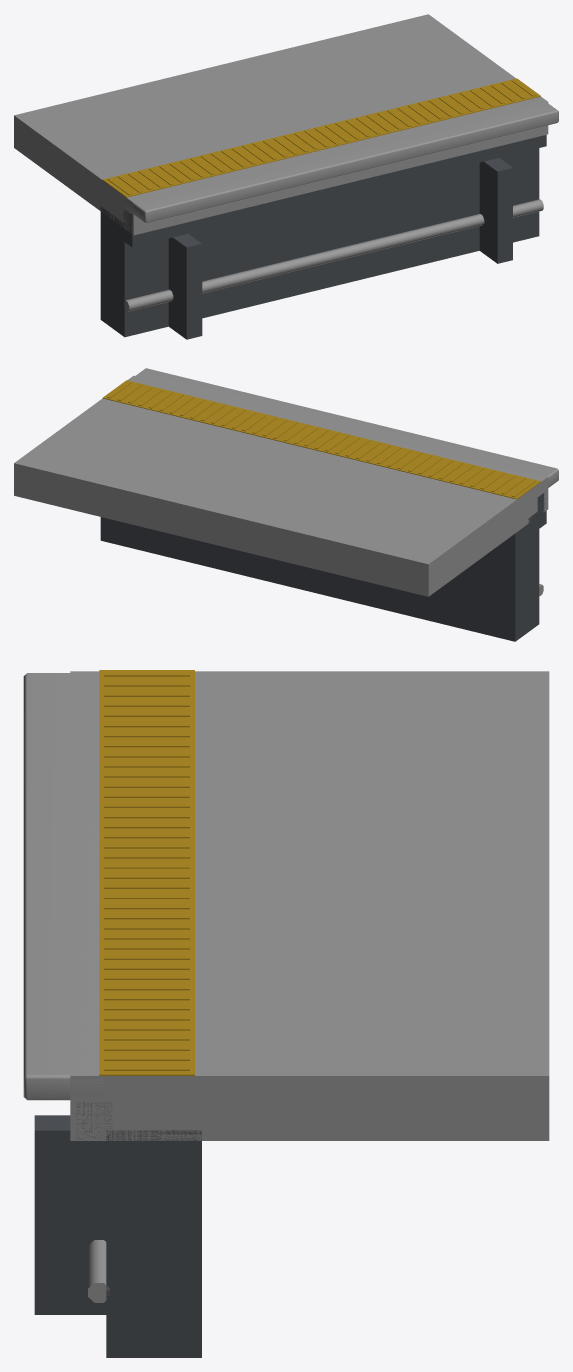
The model's file is Platform_Edge_4m.fbx.
The picture shows the model from 3 angles, top to bottom: view 1: azimuth 30°, elevation 25°; view 2: azimuth 150°, elevation 25°; view 3: azimuth 270°, elevation 25°; orthographic projection. The views are drawn at different scales.
Parts seen in each view (by area): view 1: Platform_Edge_4m_LOD0; view 2: Platform_Edge_4m_LOD0; view 3: Platform_Edge_4m_LOD0.
Part boxes in pixels (x1=…): Platform_Edge_4m_LOD0: x1=14, y1=14, x2=558, y2=339; Platform_Edge_4m_LOD0: x1=14, y1=368, x2=558, y2=641; Platform_Edge_4m_LOD0: x1=23, y1=670, x2=549, y2=1357.
Size of what is drawn, in the model's own units: 4 by 1.31 by 2.19.
